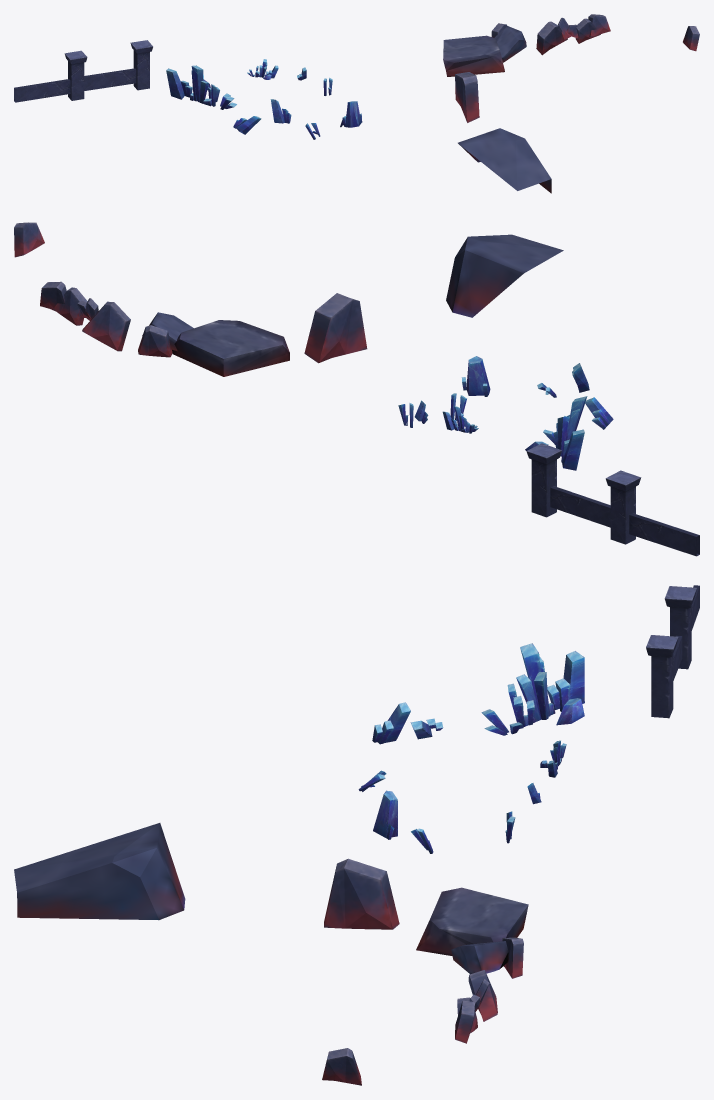
File: Area05_7.fbx
The picture shows the model from 3 angles, top to bottom: view 1: azimuth 30°, elevation 25°; view 2: azimuth 150°, elevation 25°; view 3: azimuth 270°, elevation 25°; orthographic projection. The views are drawn at different scales.
Visible parts, largest first — view 1: Area05_7; view 2: Area05_7; view 3: Area05_7.
Boxes of the visible parts, x1,y1,x2,y2 form: Area05_7: [14, 14, 699, 193]; Area05_7: [14, 222, 699, 556]; Area05_7: [14, 585, 699, 1085].
Size of the model in its own units: 9902 by 1099 by 6128.
